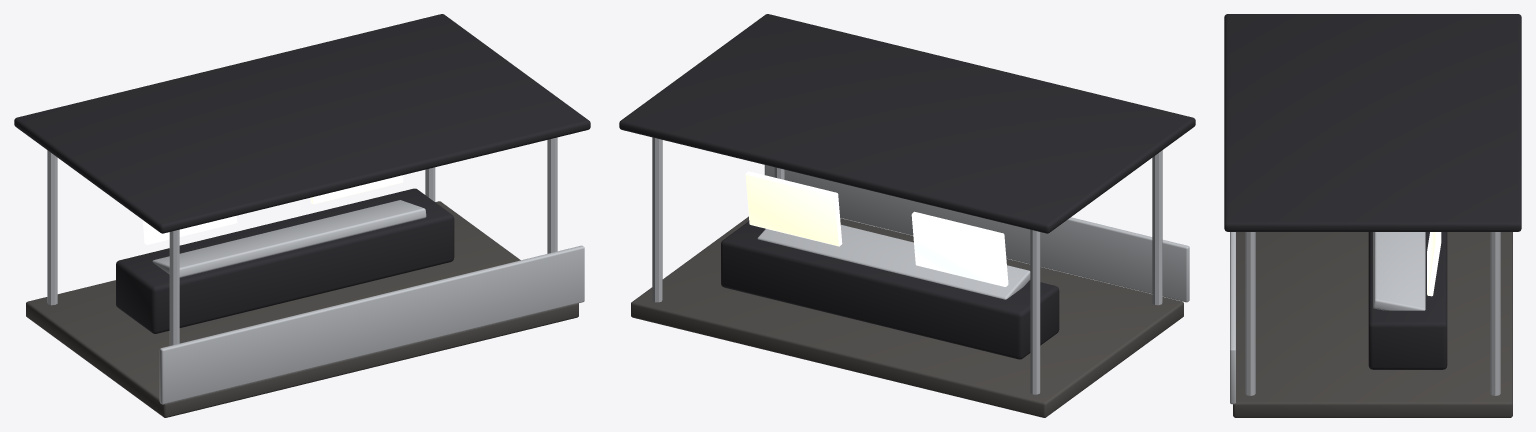
The model's file is foh.glb.
The picture shows the model from 3 angles, left to right: view 1: azimuth 30°, elevation 25°; view 2: azimuth 150°, elevation 25°; view 3: azimuth 270°, elevation 25°; orthographic projection.
Parts seen in each view (by area): view 1: foh; view 2: foh; view 3: foh.
Part boxes in pixels (x1,y1,x2,y2): foh: (14,14,590,417); foh: (619,14,1195,417); foh: (1224,14,1521,417).
Size of the model in its own units: 114 by 50.2 by 68.
